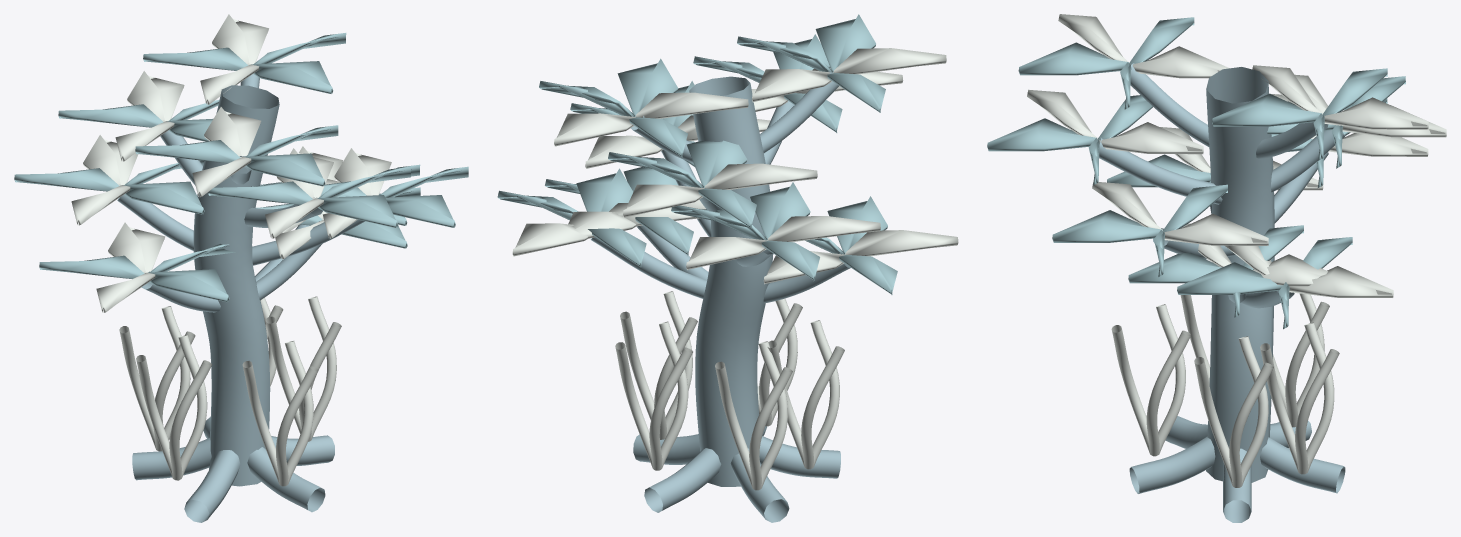
Rendered from bio_canopy_tree_19_near.glb.
3 views of the same model, side by side, from view 1: azimuth 30°, elevation 25°; view 2: azimuth 150°, elevation 25°; view 3: azimuth 270°, elevation 25° (orthographic). The views are drawn at different scales.
Visible parts, largest first — view 1: Buttressed trunk, Broad canopy leaf.035, Broad canopy leaf.015, Broad canopy leaf.010, Broad canopy leaf.020, Spiral filament.006, Spiral filament.012, Broad canopy leaf.005, Spiral filament, Spiral filament.003, Broad canopy leaf.021, Broad canopy leaf.036 (+10 smaller); view 2: Buttressed trunk, Broad canopy leaf.035, Broad canopy leaf.015, Broad canopy leaf.005, Spiral filament.003, Spiral filament.009, Broad canopy leaf.030, Broad canopy leaf.016, Broad canopy leaf.031, Broad canopy leaf.036, Broad canopy leaf.006, Broad canopy leaf.040 (+12 smaller); view 3: Buttressed trunk, Spiral filament.006, Spiral filament, Spiral filament.009, Broad canopy leaf.035, Broad canopy leaf.015, Broad canopy leaf.025, Broad canopy leaf.010, Broad canopy leaf.026, Broad canopy leaf.011, Broad canopy leaf.016, Broad canopy leaf.040 (+11 smaller).
Boxes of the visible parts, x1,y1,x2,y2 form: Buttressed trunk: (117,74,364,522); Broad canopy leaf.035: (135,125,338,186); Broad canopy leaf.015: (143,33,346,93); Broad canopy leaf.010: (208,166,410,227); Broad canopy leaf.020: (39,243,235,302); Spiral filament.006: (242,341,318,486); Spiral filament.012: (136,335,212,480); Broad canopy leaf.005: (14,160,204,214); Spiral filament: (265,296,341,441); Spiral filament.003: (119,306,195,451); Broad canopy leaf.021: (96,222,165,312); Broad canopy leaf.036: (192,107,261,197); Buttressed trunk: (590,71,850,522); Broad canopy leaf.035: (737,14,885,112); Broad canopy leaf.015: (539,58,687,157); Broad canopy leaf.005: (671,182,819,281); Spiral filament.003: (715,341,792,490); Spiral filament.009: (615,321,692,470); Broad canopy leaf.030: (608,140,756,228); Broad canopy leaf.016: (554,92,748,146); Broad canopy leaf.031: (623,163,817,217); Broad canopy leaf.036: (752,48,946,101); Broad canopy leaf.006: (686,216,880,269); Broad canopy leaf.040: (497,168,646,267); Buttressed trunk: (1099,63,1345,522); Spiral filament.006: (1111,304,1191,456); Spiral filament: (1194,336,1273,487); Spiral filament.009: (1260,322,1339,474); Broad canopy leaf.035: (1018,17,1194,109); Broad canopy leaf.015: (1212,68,1387,160); Broad canopy leaf.025: (1052,184,1227,276); Broad canopy leaf.010: (987,95,1152,185); Broad canopy leaf.026: (1092,182,1268,245); Broad canopy leaf.011: (1027,89,1203,154); Broad canopy leaf.016: (1252,65,1428,129); Broad canopy leaf.040: (1177,237,1352,329).
Bounding box in the file's own units: 3.06 × 2.99 × 3.05.
